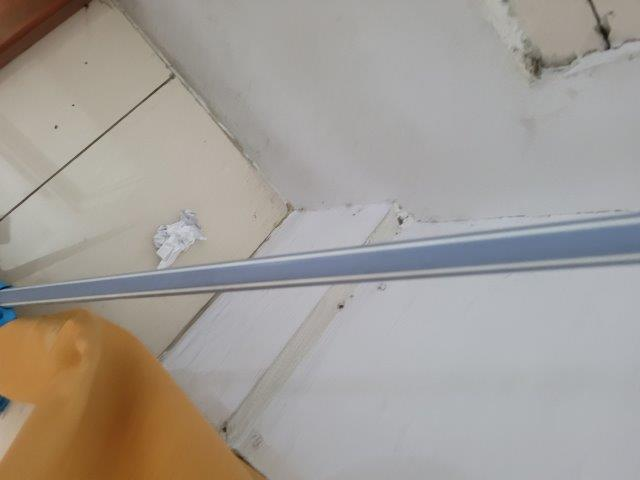kertas: (151, 203, 205, 269)
